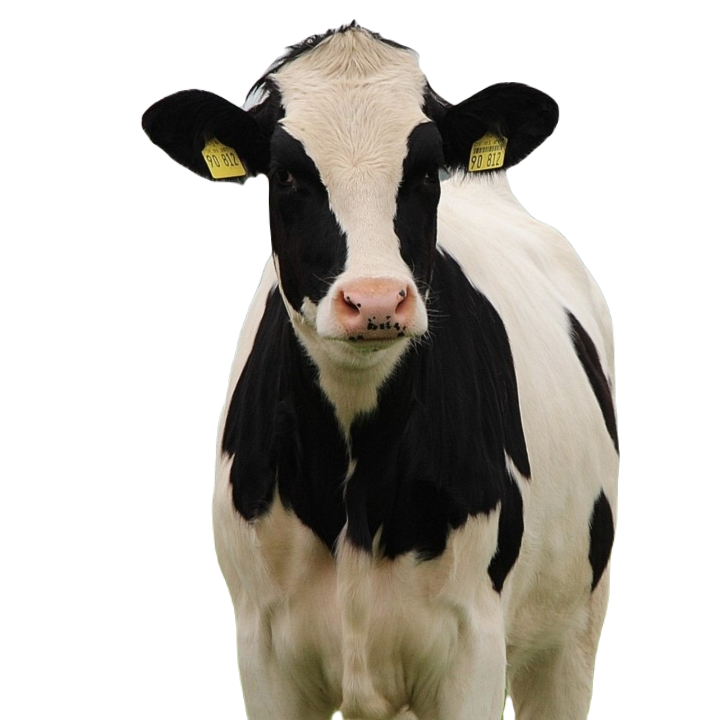Cow: (139, 20, 622, 719)
